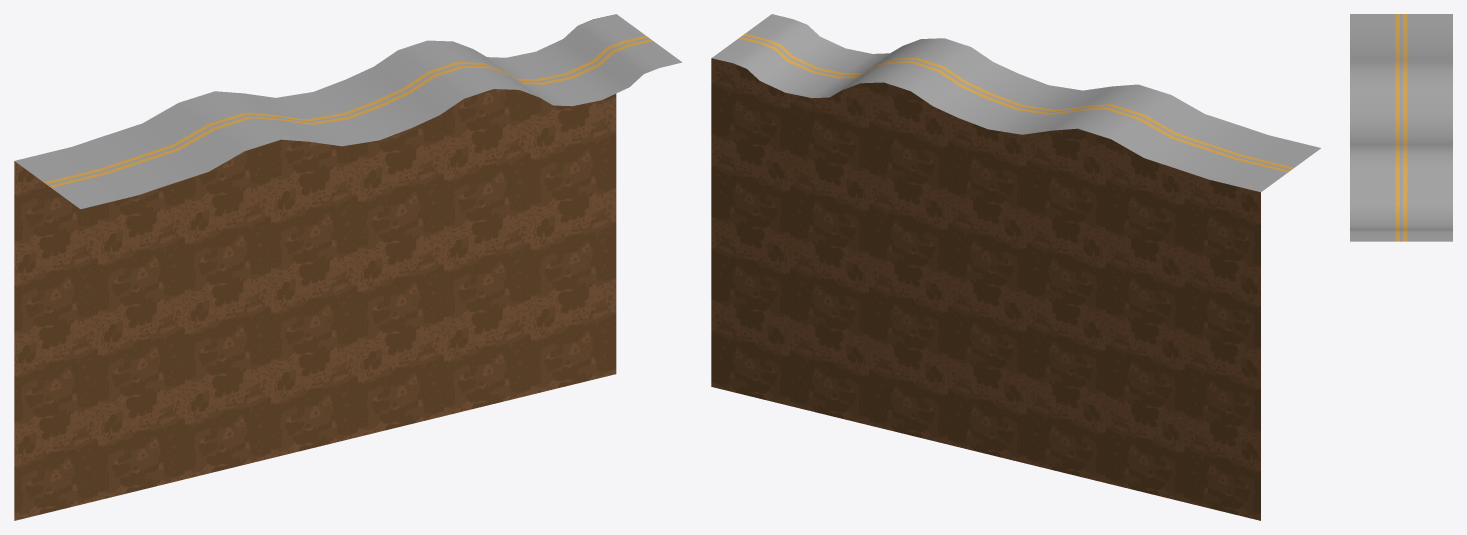
File: Terrain_03_hills.FBX
The picture shows the model from 3 angles, left to right: view 1: azimuth 30°, elevation 25°; view 2: azimuth 150°, elevation 25°; view 3: azimuth 270°, elevation 25°; orthographic projection. The views are drawn at different scales.
Visible parts, largest first — view 1: Terrain_03_ground, Terrain_03; view 2: Terrain_03_ground, Terrain_03; view 3: Terrain_03.
Boxes of the visible parts, left/top/right/bottom form: Terrain_03_ground: left=14, top=16, right=616, bottom=520; Terrain_03: left=15, top=14, right=682, bottom=209; Terrain_03_ground: left=711, top=58, right=1260, bottom=520; Terrain_03: left=712, top=14, right=1320, bottom=192; Terrain_03: left=1350, top=14, right=1452, bottom=241.
Bounding box in the file's own units: 210 × 127 × 40.
